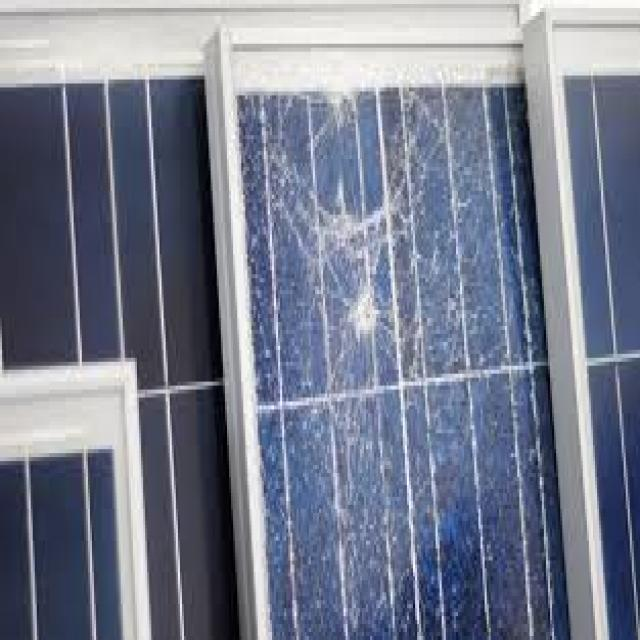faulty: (230, 54, 563, 640), (1, 67, 234, 640)
